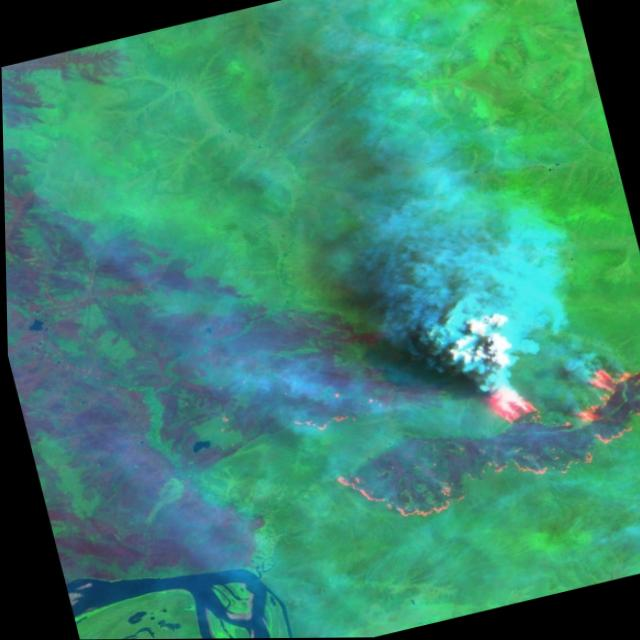fire: (296, 330, 640, 543)
